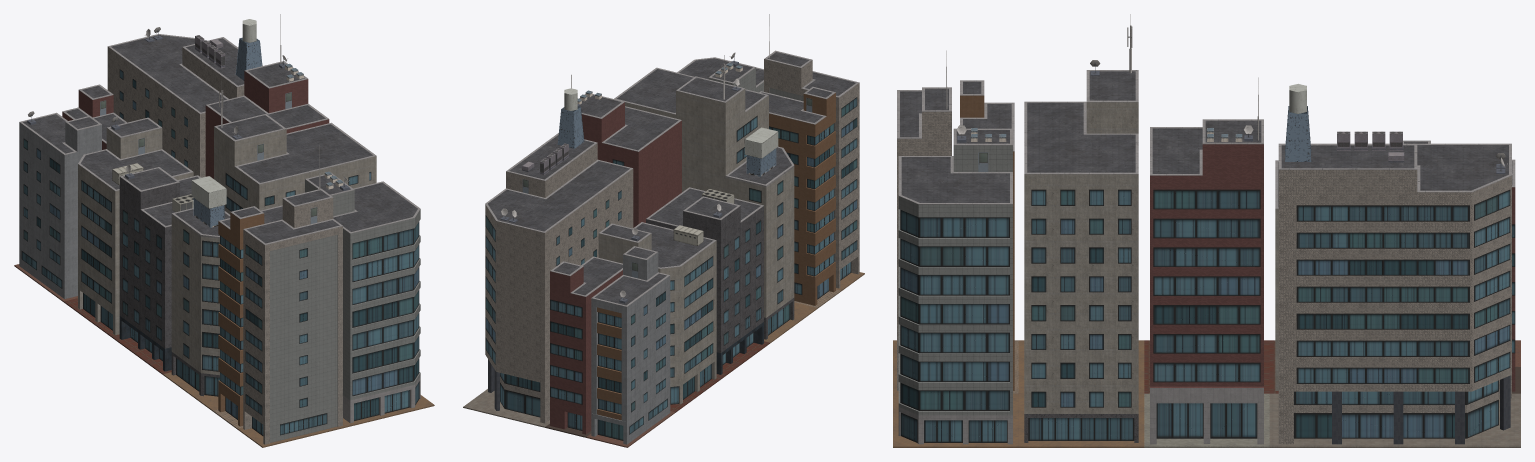
File: jctlowBldSetF.fbx
3 renders of one model, left to right at view 1: azimuth 30°, elevation 25°; view 2: azimuth 150°, elevation 25°; view 3: azimuth 270°, elevation 25°, orthographic. The views are drawn at different scales.
Parts seen in each view (by area): view 1: jctlowBldSetF; view 2: jctlowBldSetF; view 3: jctlowBldSetF.
Boxes of the visible parts, x1,y1,x2,y2 form: jctlowBldSetF: (14,14,434,447); jctlowBldSetF: (463,14,864,447); jctlowBldSetF: (893,14,1520,447).
Bounding box in the file's own units: 2400 × 3848 × 6000.
22 materials, 22 textured.
